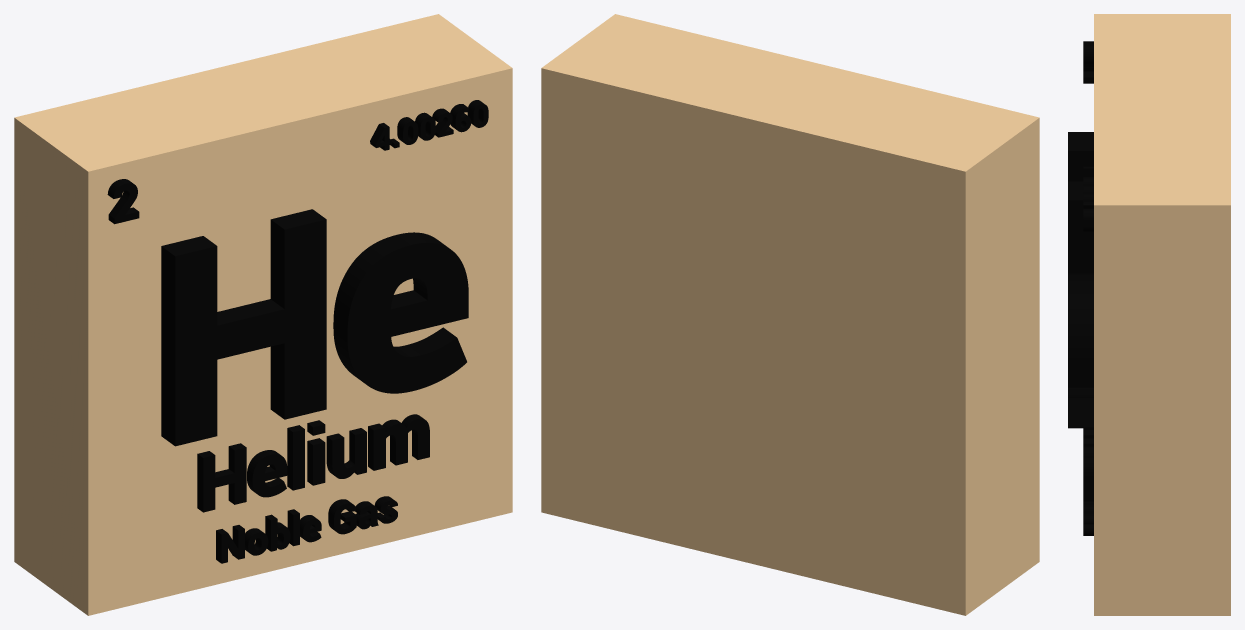
The picture shows the model from 3 angles, left to right: view 1: azimuth 30°, elevation 25°; view 2: azimuth 150°, elevation 25°; view 3: azimuth 270°, elevation 25°; orthographic projection. The views are drawn at different scales.
Parts seen in each view (by area): view 1: Cube, Text, Text.001, Text.002, Text.004, Text.003; view 2: Cube; view 3: Cube, Text, Text.001, Text.004, Text.003, Text.002.
Boxes of the visible parts, bbox=[...] form: Cube: bbox=[14, 14, 512, 615]; Text: bbox=[161, 209, 468, 446]; Text.001: bbox=[197, 414, 429, 512]; Text.002: bbox=[216, 496, 397, 563]; Text.004: bbox=[370, 100, 488, 150]; Text.003: bbox=[107, 179, 139, 224]; Cube: bbox=[541, 14, 1039, 615]; Cube: bbox=[1094, 14, 1230, 615]; Text: bbox=[1068, 132, 1093, 428]; Text.001: bbox=[1083, 428, 1093, 501]; Text.004: bbox=[1083, 166, 1093, 231]; Text.003: bbox=[1083, 41, 1093, 83]; Text.002: bbox=[1083, 501, 1093, 535].
Size of the model in its own units: 178 by 178 by 63.95.
